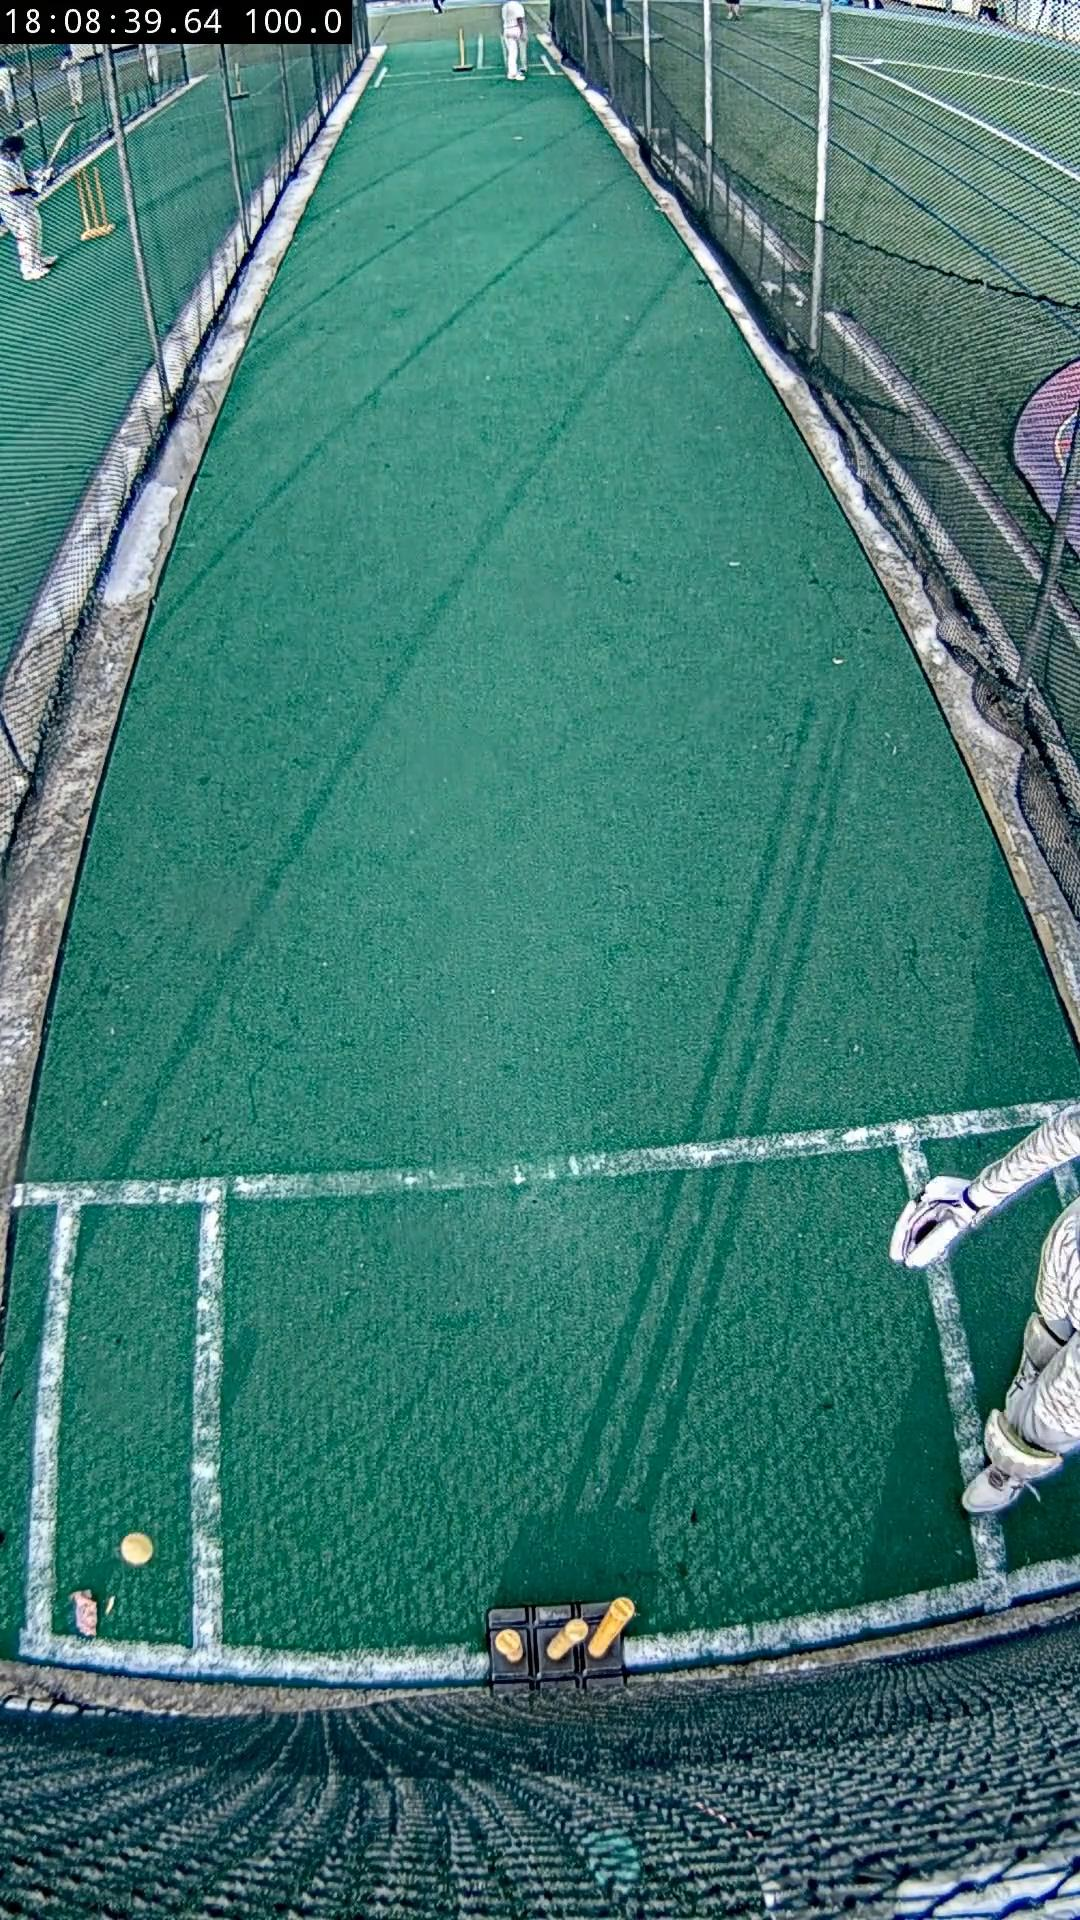ball: (120, 1530, 154, 1568)
gloves: (889, 1178, 982, 1267)
stumps: (488, 1597, 634, 1692)
